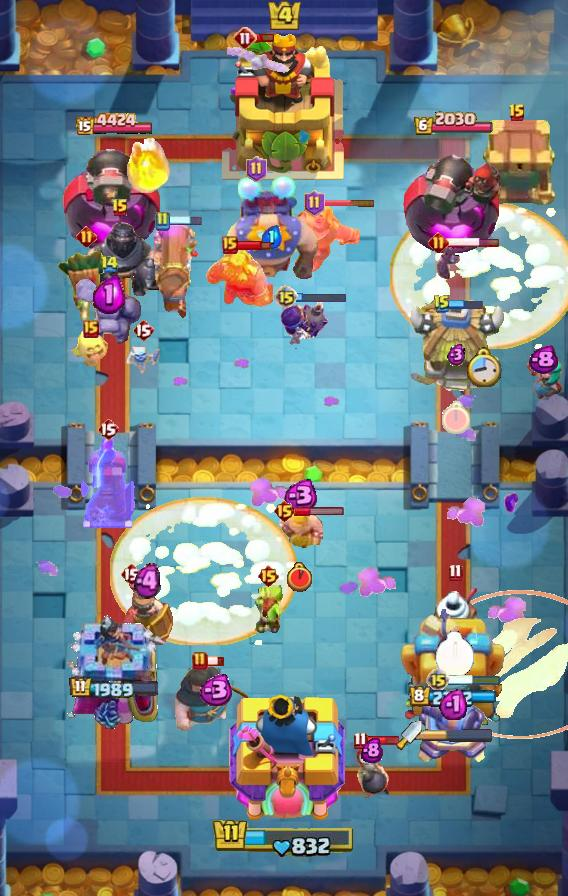archer: (275, 508, 323, 552)
bar: (401, 601, 505, 731)
barbarian: (227, 43, 291, 75)
barbarian-barrel: (437, 246, 469, 280)
bat-evolution: (70, 330, 112, 368)
battle-healer: (153, 217, 199, 321)
bomb: (478, 119, 556, 207)
clock: (212, 817, 356, 859)
earthquake: (120, 577, 174, 647)
electro-spirit: (279, 479, 319, 512), (195, 674, 234, 706), (93, 276, 125, 314), (134, 564, 161, 601), (439, 687, 467, 720), (528, 345, 558, 375), (361, 737, 383, 763), (261, 225, 282, 249), (446, 342, 466, 365)
elixir: (435, 631, 475, 678), (466, 347, 502, 387), (440, 401, 472, 435), (288, 562, 312, 592)
emote: (447, 674, 501, 687), (296, 291, 347, 303), (446, 236, 500, 247), (294, 507, 345, 518), (322, 197, 376, 206), (167, 215, 203, 227), (236, 239, 272, 251), (449, 298, 484, 310), (364, 735, 399, 746), (205, 655, 225, 667), (255, 33, 275, 44)
goblin-ball: (279, 299, 331, 355)
goblin-barrel: (56, 249, 116, 325)
goblin-drill: (428, 578, 482, 638)
goblin-hut: (288, 201, 362, 275), (205, 249, 273, 308)
heal-spirit: (126, 343, 160, 375)
ice-golem: (354, 744, 390, 802)
ice-spirit-evolution-symbol: (78, 434, 138, 530)
ice-wizard: (424, 589, 567, 738)
king-tower: (222, 31, 346, 181), (223, 689, 345, 826)
king-tower-bar: (422, 728, 494, 742)
little-prince: (218, 174, 324, 296)
phoenix-big: (110, 497, 298, 645), (390, 201, 568, 349)
prince: (405, 300, 507, 396)
queen-tower: (65, 614, 162, 730)
royal-guardian: (70, 209, 170, 299)
royal-hog: (174, 663, 254, 735)
royal-recruit: (417, 683, 489, 767)
selected: (68, 675, 159, 700), (409, 686, 497, 710), (414, 111, 495, 137), (74, 112, 154, 138)
text: (233, 26, 257, 50), (274, 285, 298, 309), (272, 499, 296, 523), (256, 564, 280, 588), (426, 668, 450, 692), (245, 156, 266, 182), (304, 190, 325, 216), (132, 318, 154, 342), (97, 417, 119, 441), (120, 562, 142, 586), (75, 225, 96, 247), (428, 231, 449, 252), (508, 103, 526, 123), (111, 198, 129, 218), (100, 255, 120, 273), (433, 294, 451, 314), (154, 211, 170, 231), (192, 651, 208, 671), (222, 236, 238, 254), (83, 320, 99, 338), (449, 563, 463, 581), (353, 731, 367, 749)
tower-bar: (62, 138, 166, 256), (403, 138, 503, 256)
valkyrie: (122, 130, 172, 196)
valkyrie-evolution: (76, 276, 142, 348)
witch: (523, 357, 563, 401)
zap: (253, 584, 283, 634)
